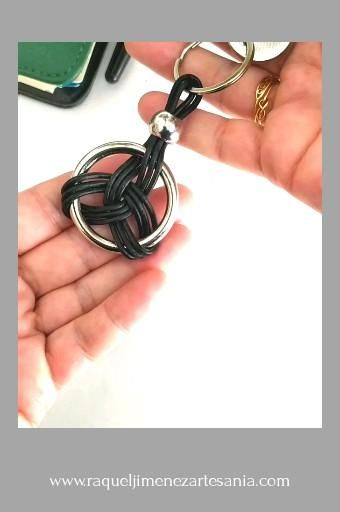cuero: (60, 74, 205, 260)
